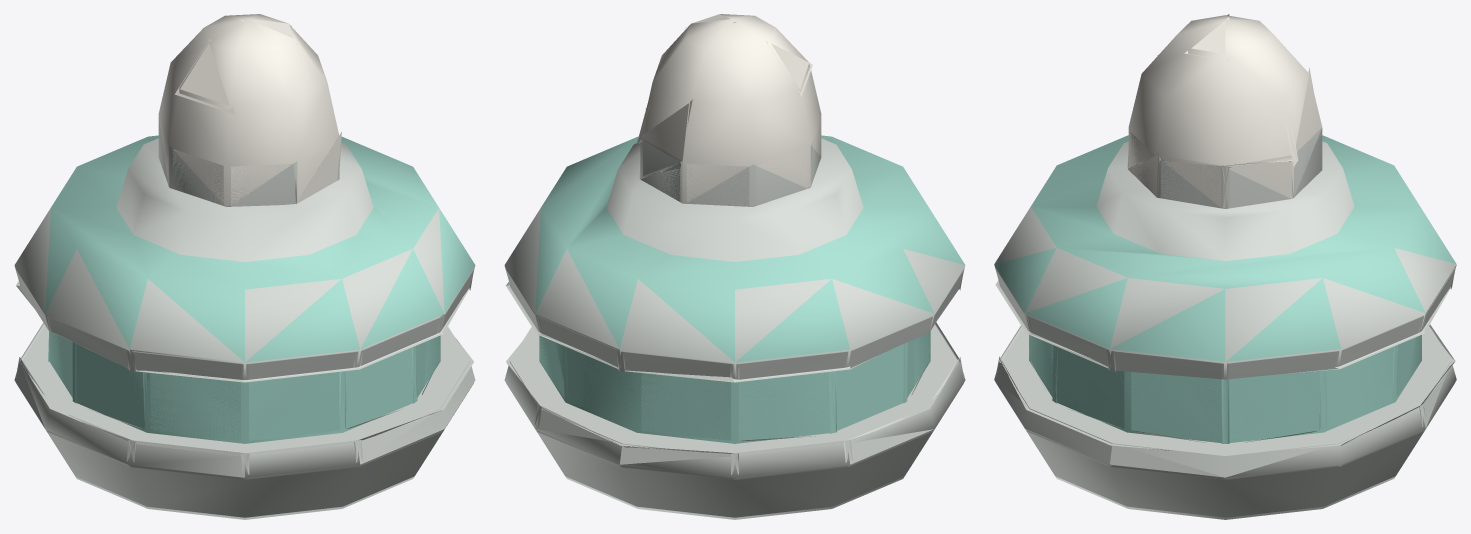
The model's file is tower-defense-kit__enemy-ufo-d.glb.
3 views of the same model, side by side, from view 1: azimuth 30°, elevation 25°; view 2: azimuth 150°, elevation 25°; view 3: azimuth 270°, elevation 25° (orthographic).
Visible parts, largest first — view 1: L1_metal, L1_accent, L0_metal, L1_ivory, L0_accent, L0_ivory; view 2: L1_metal, L1_accent, L0_metal, L1_ivory, L0_accent, L0_ivory; view 3: L1_metal, L1_accent, L0_metal, L1_ivory, L0_accent, L0_ivory.
Part boxes in pixels (<box>): L1_metal: <box>14,117,475,519</box>; L1_accent: <box>45,135,475,443</box>; L0_metal: <box>15,149,474,517</box>; L1_ivory: <box>158,14,339,206</box>; L0_accent: <box>48,331,438,440</box>; L0_ivory: <box>164,19,341,205</box>; L1_metal: <box>504,137,965,519</box>; L1_accent: <box>535,135,964,443</box>; L0_metal: <box>505,141,964,517</box>; L1_ivory: <box>641,14,821,203</box>; L0_accent: <box>539,332,930,440</box>; L0_ivory: <box>636,22,814,202</box>; L1_metal: <box>994,128,1456,519</box>; L1_accent: <box>994,135,1456,443</box>; L0_metal: <box>995,131,1455,517</box>; L1_ivory: <box>1128,15,1322,208</box>; L0_accent: <box>1029,335,1415,443</box>; L0_ivory: <box>1127,14,1313,208</box>.
Bounding box in the file's own units: 1 × 1 × 1.
